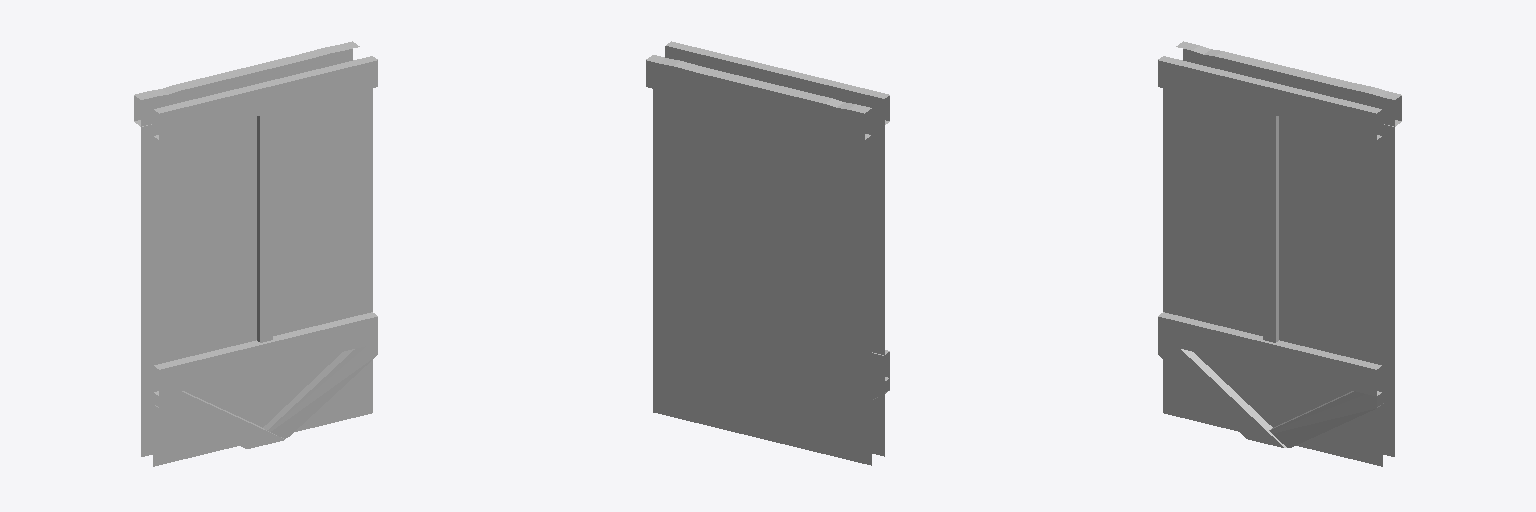
File: Wall_Plaster_Straight.obj
The picture shows the model from 3 angles: view 1: azimuth 30°, elevation 25°; view 2: azimuth 150°, elevation 25°; view 3: azimuth 330°, elevation 25°; orthographic projection.
Visible parts, largest first — view 1: Wall_Plaster_Straight; view 2: Wall_Plaster_Straight; view 3: Wall_Plaster_Straight.
Part boxes in pixels (x1,y1,x2,y2): Wall_Plaster_Straight: (134, 41, 377, 466); Wall_Plaster_Straight: (646, 41, 889, 465); Wall_Plaster_Straight: (1158, 41, 1401, 466).
Size of the model in its own units: 2 by 3.12 by 0.4065.